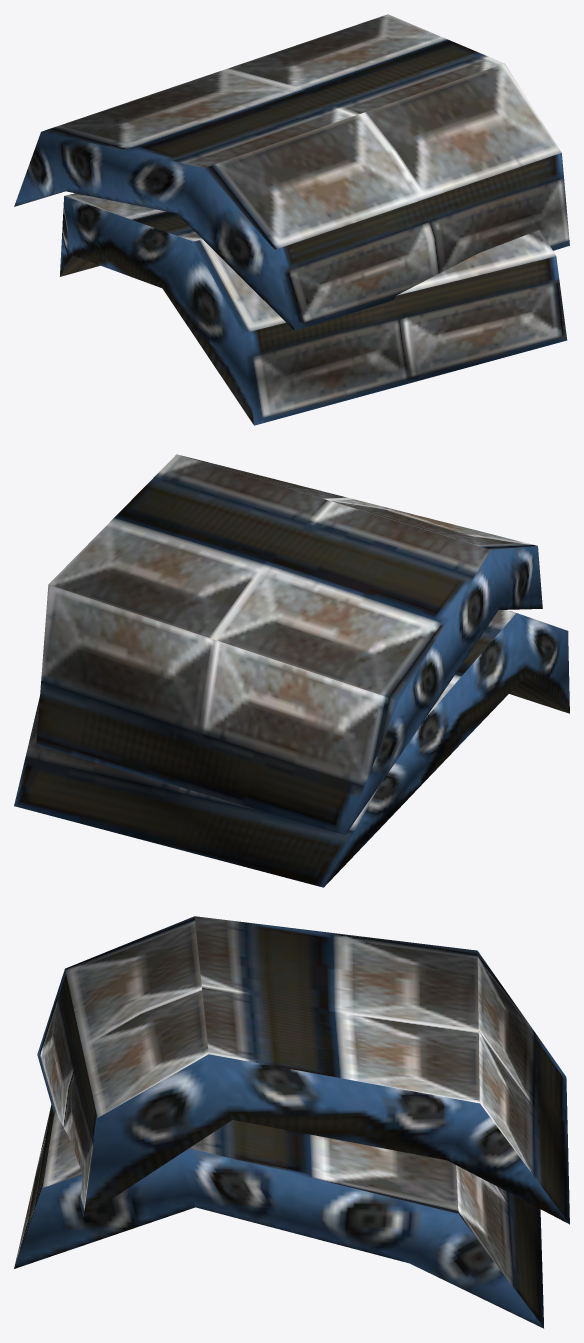
The model's file is ShoulderPads5__LED.glb.
The picture shows the model from 3 angles, top to bottom: view 1: azimuth 30°, elevation 25°; view 2: azimuth 150°, elevation 25°; view 3: azimuth 270°, elevation 25°; orthographic projection. The views are drawn at different scales.
Parts seen in each view (by area): view 1: ShoulderPads5; view 2: ShoulderPads5; view 3: ShoulderPads5.
Boxes of the visible parts, x1,y1,x2,y2 form: ShoulderPads5: (14,14,569,425); ShoulderPads5: (14,454,569,887); ShoulderPads5: (14,916,569,1328).
Size of the model in its own units: 8.51 by 5.51 by 10.
Materials: 1 (1 with a texture image).
